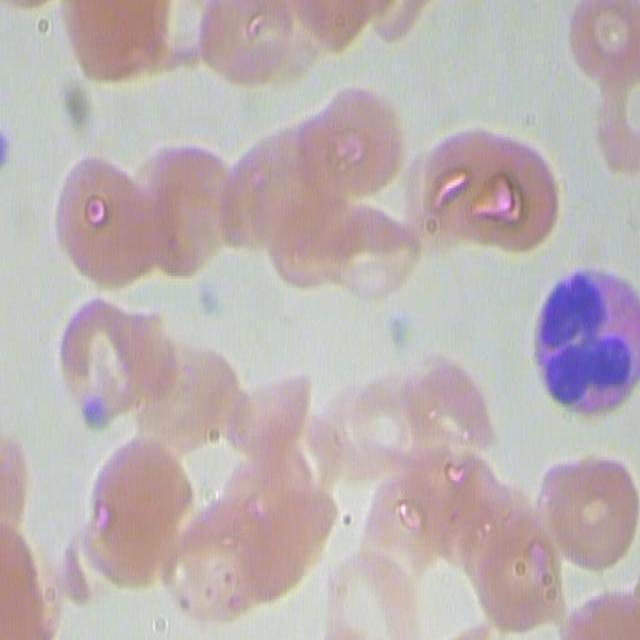Platelets: (82, 398, 108, 433)
RBC: (38, 141, 153, 291), (40, 289, 155, 439), (161, 487, 279, 625), (533, 431, 639, 581), (134, 143, 241, 284), (91, 429, 193, 555), (309, 75, 411, 200), (352, 469, 455, 587), (461, 137, 564, 255), (215, 364, 317, 467), (396, 352, 498, 455), (317, 197, 419, 300), (198, 1, 300, 103), (338, 374, 413, 470), (563, 1, 639, 87)
WBC: (519, 266, 639, 422)
